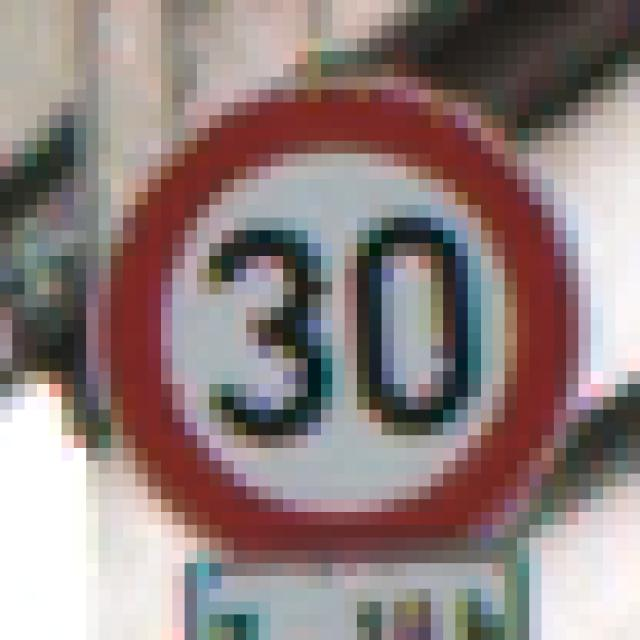Speed Limit -30-: (68, 58, 560, 556)
